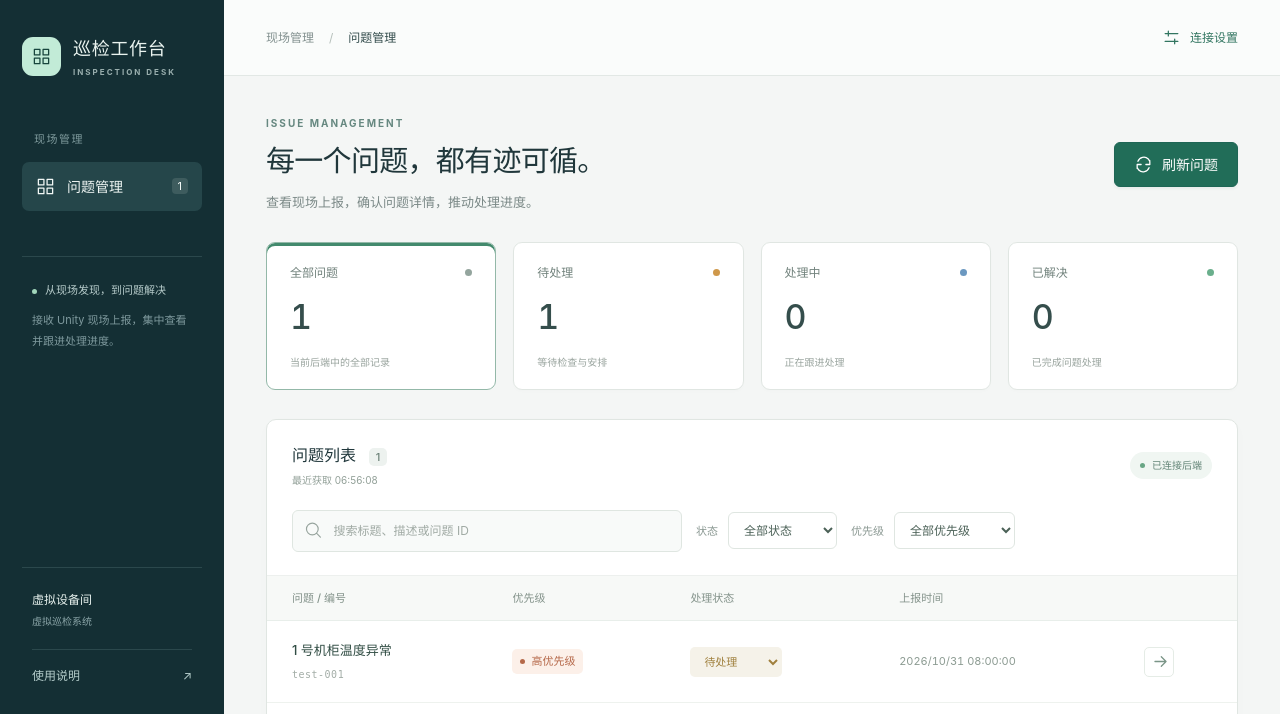
Scenario: 问题管理交互 › 等待后端确认才更新状态，提交中不能重复修改
The image size is (1280, 714).
Step 1. Select "已解决" in the dropdown named "列表状态：1 号机柜温度异常" → (736, 662), box [690,647,782,677]
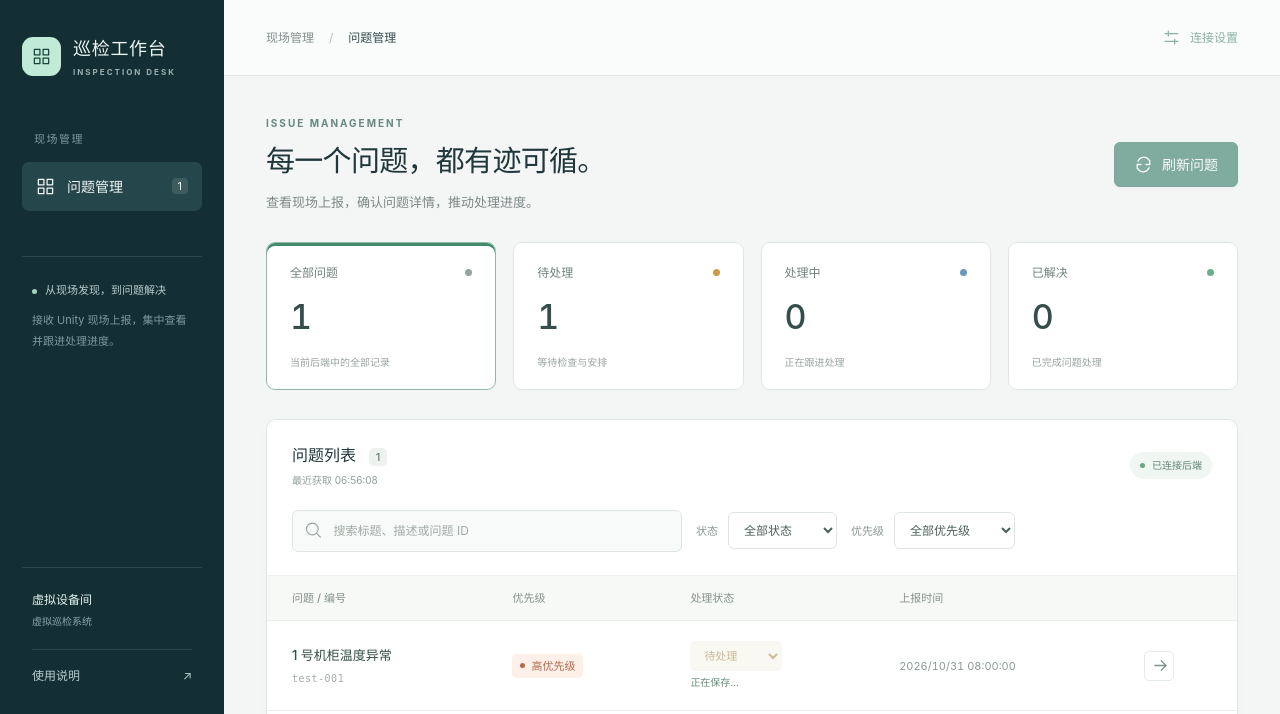
Step 2. Select "处理中" in the dropdown named "列表状态：1 号机柜温度异常" → (736, 656), box [690,641,782,671]
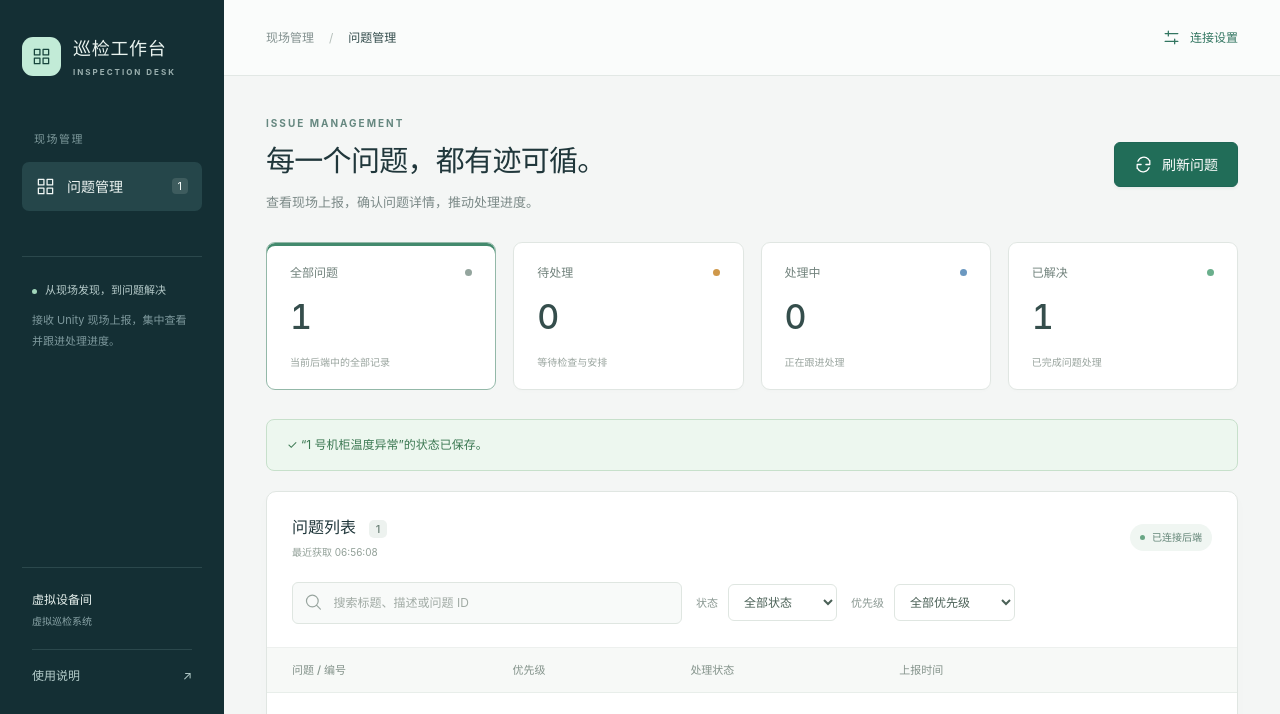
Check: the text "✓ “1 号机柜温度异常”的状态已保存。" is shown, box [266,419,1238,471]
